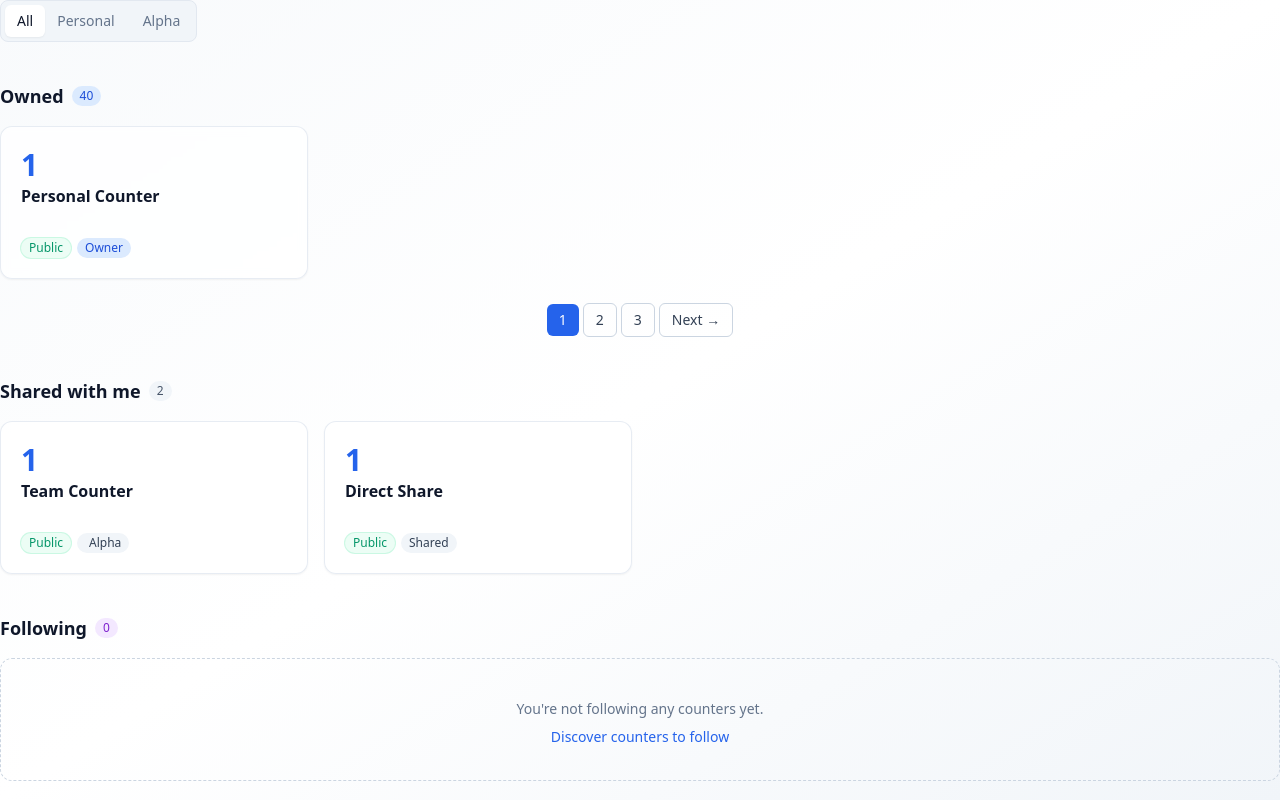
Test case: My counters page owner filter › hides owned counters and pagination when a team filter is selected
What coordinates should you click on to do the following:
click the button "Alpha"
I would click on:
 (159, 21)
Its box is [127,5,192,37].
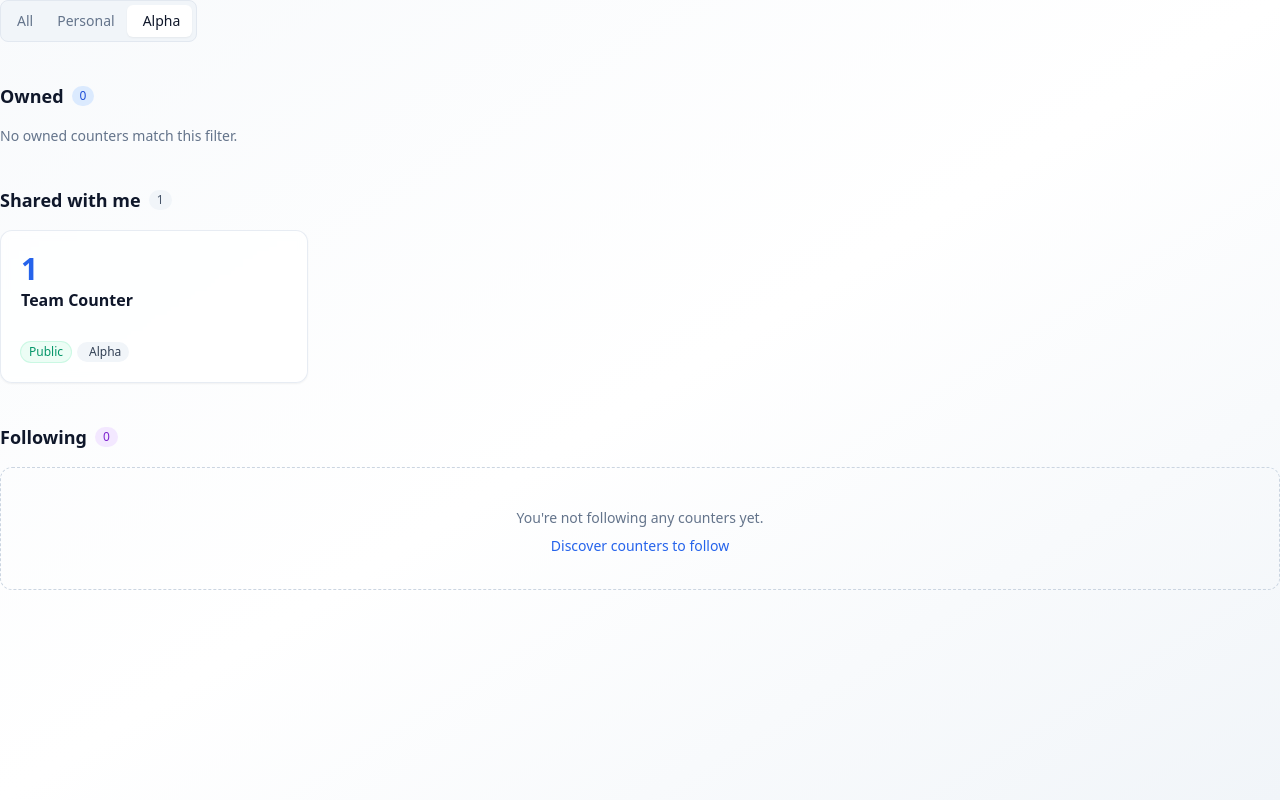
Now the text "No owned counters match this filter." is shown, box [0,126,237,145]
Now the link "Personal Counter" is gone
Now the navigation bar "Pagination" is gone
